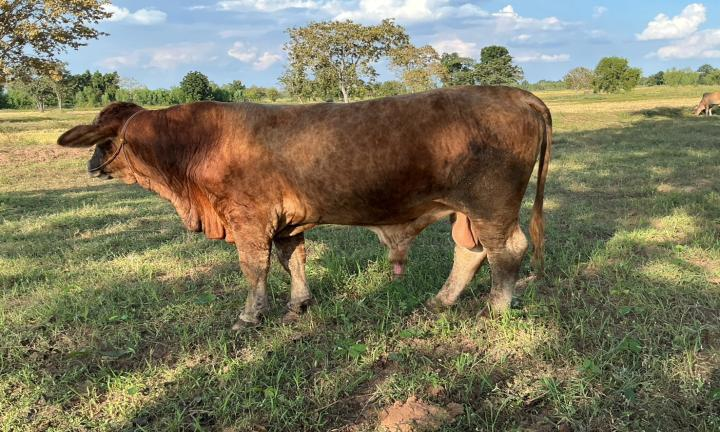Charolais: (58, 85, 552, 328)
